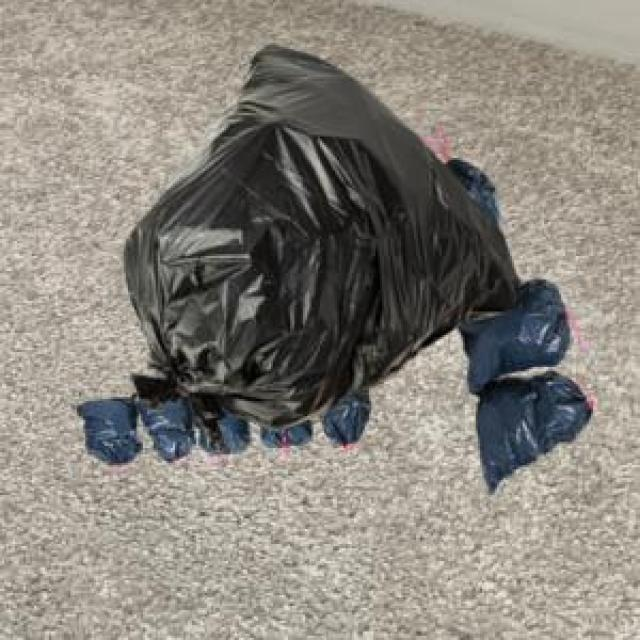waste: (79, 49, 590, 484)
